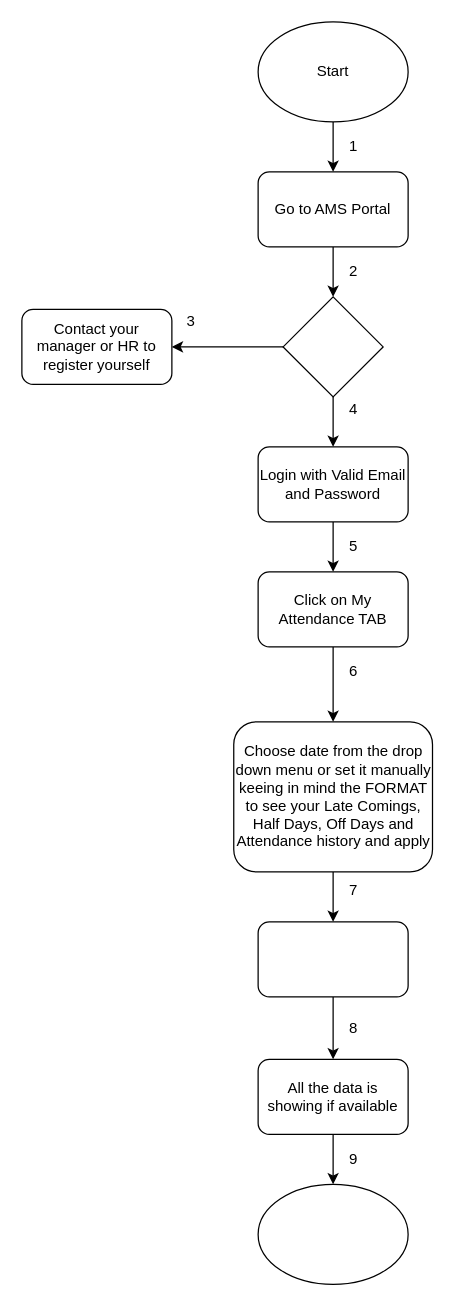
The diagram is 455 pixels wide and 1306 high, and some of its shapes have lost their labels. The box of each missing label's shape, as (x1, y1, x2, y2) in pixels:
Are you registered?: (282, 296, 383, 397)
End: (257, 1183, 408, 1284)
Submit: (257, 921, 408, 997)
